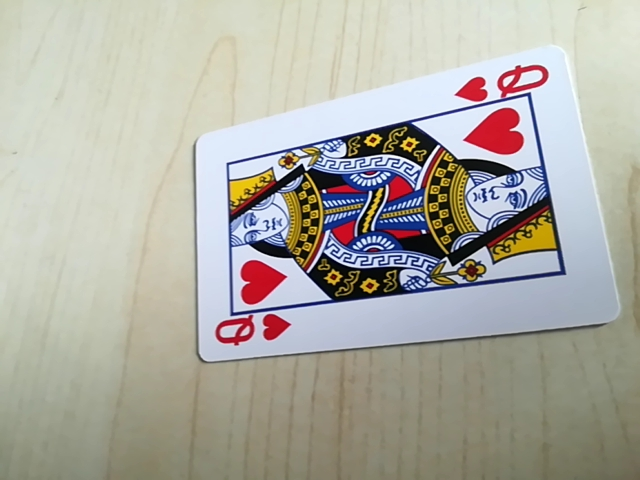hx q: (453, 59, 555, 107), (212, 308, 293, 356)
